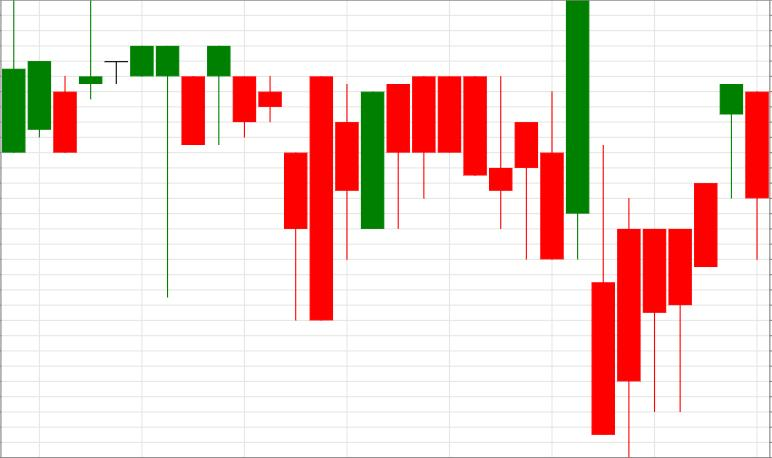hanging_man_fall: (591, 84, 743, 457)
